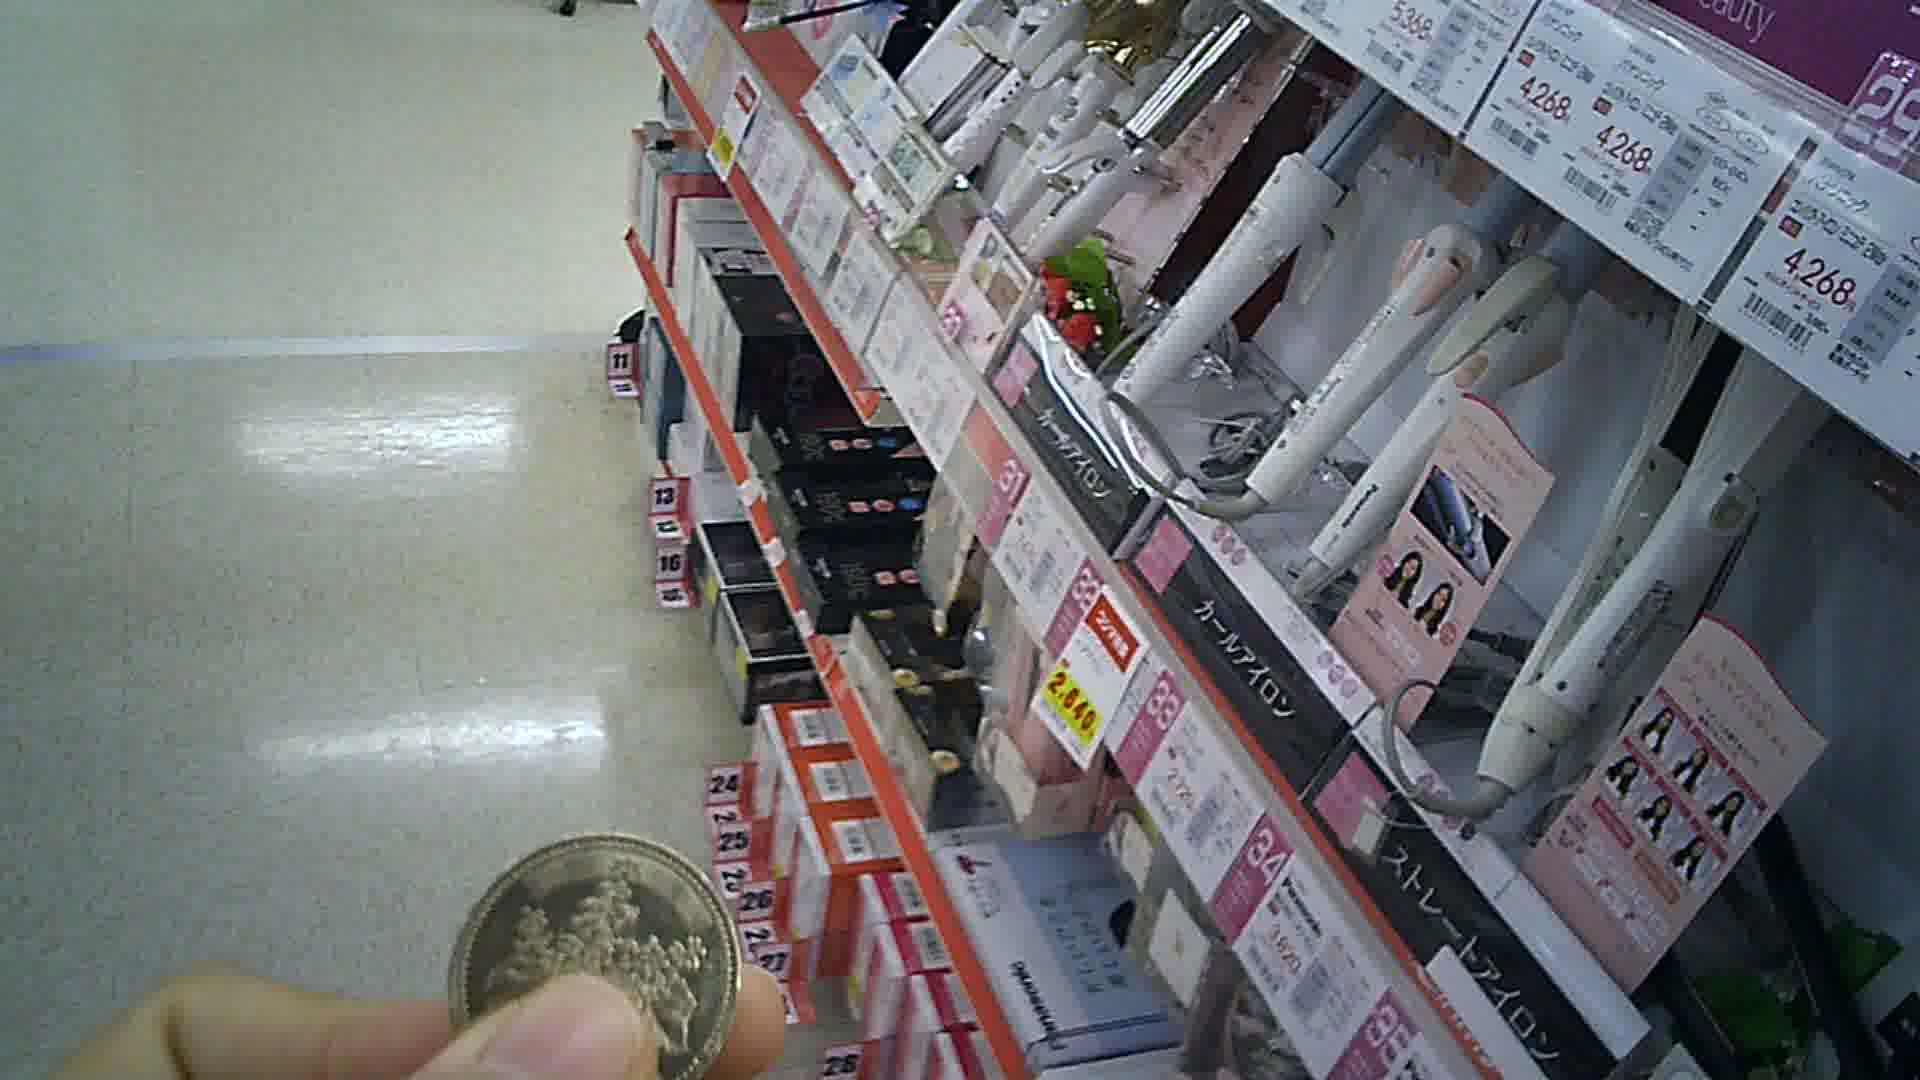500 Yen: (451, 828, 750, 1075)
